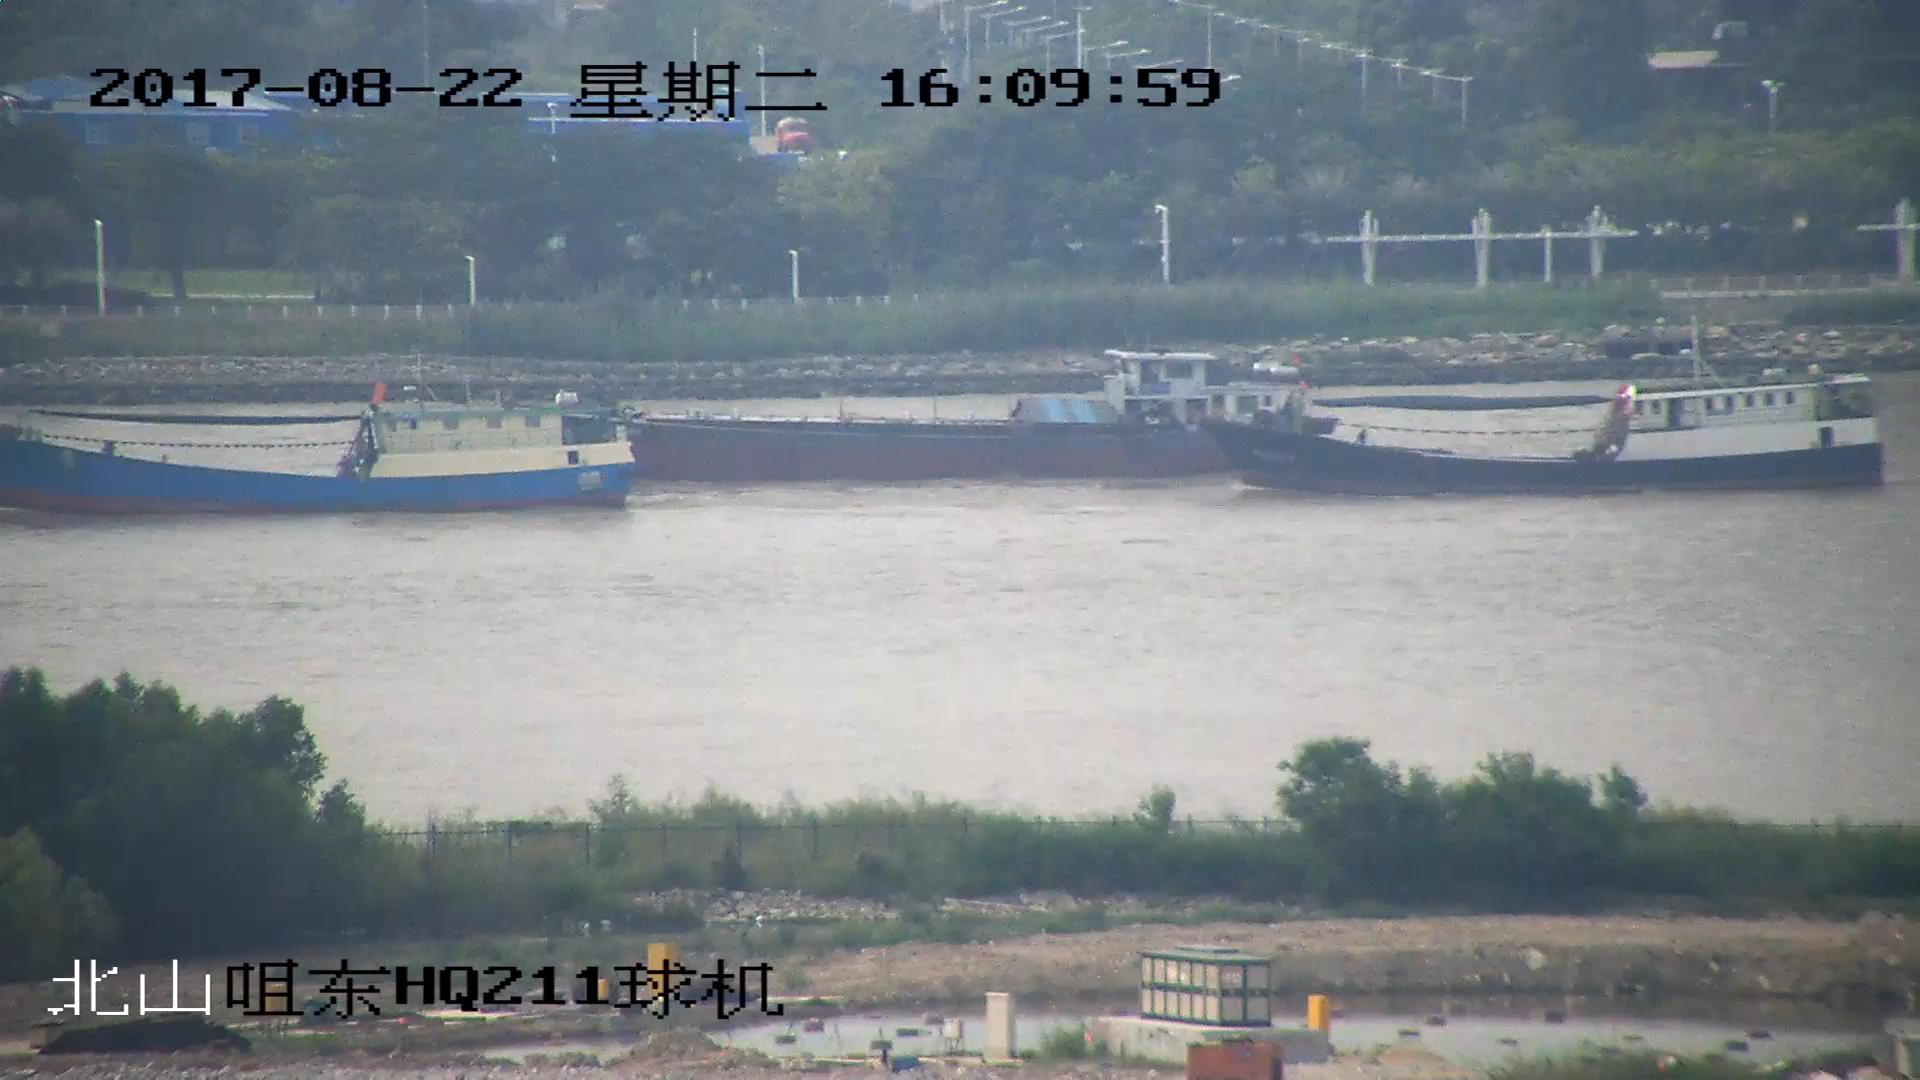Ship: (1211, 345, 1884, 498), (568, 359, 1336, 487), (3, 392, 637, 514)
